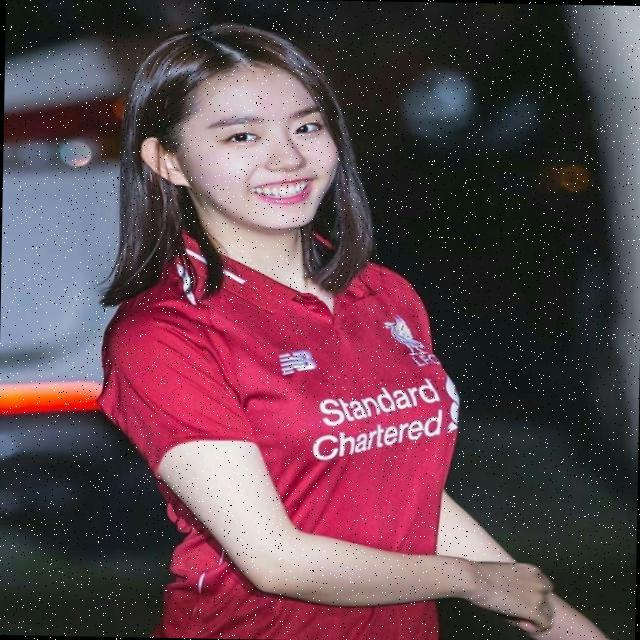Standard Chartered: (311, 372, 460, 461)
